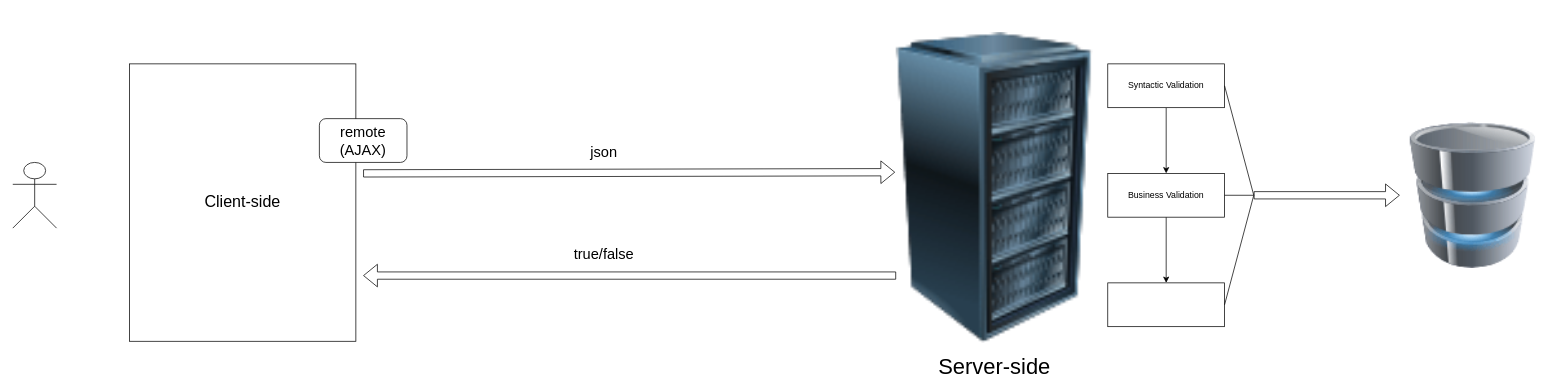
Image size: 1559x392. Some labels were removed from this diagram. The box of each missing label's shape, as (x1, y1, x2, y2) in pixels:
Client: (12, 162, 57, 228)
Security Validation: (1107, 282, 1225, 327)
